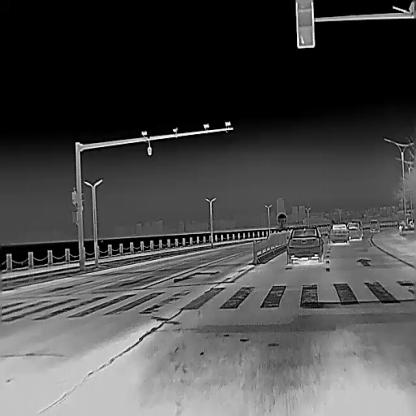car: (286, 225, 324, 263), (326, 222, 348, 244), (346, 222, 362, 240), (368, 218, 380, 230)
